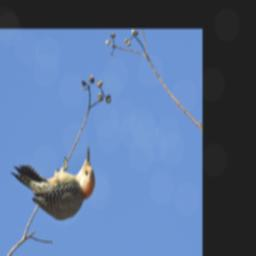Woodpecker: (8, 143, 102, 222)
